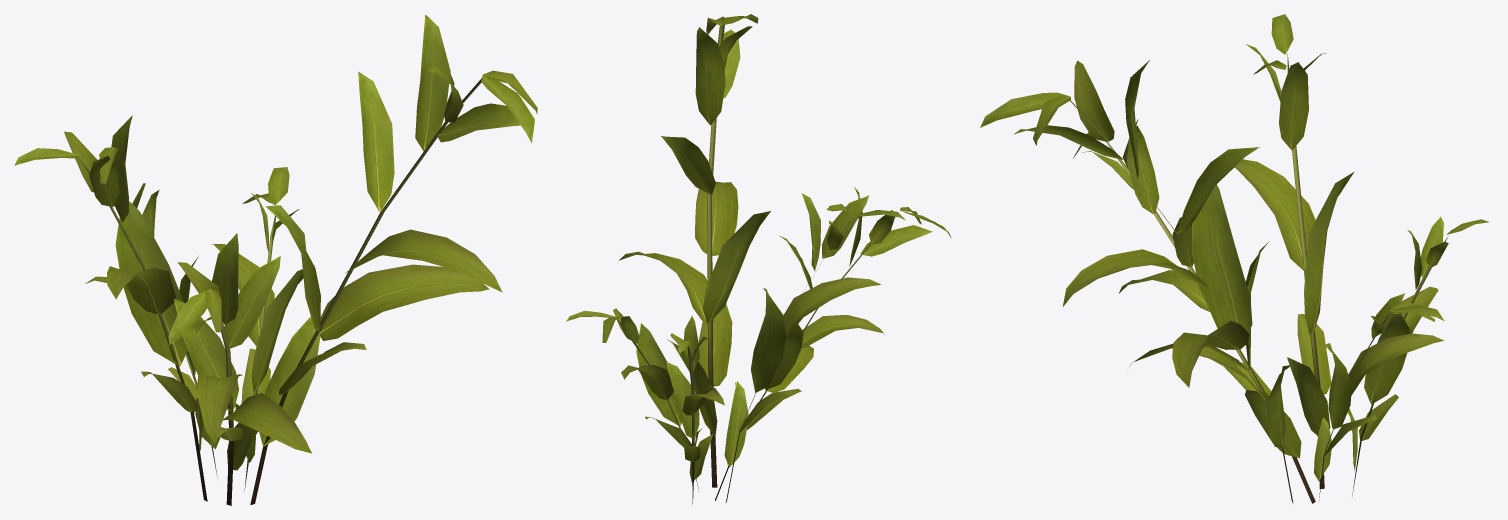
File: leafplant4_lod1.fbx
3 views of the same model, side by side, from view 1: azimuth 30°, elevation 25°; view 2: azimuth 150°, elevation 25°; view 3: azimuth 270°, elevation 25° (orthographic). The views are drawn at different scales.
Visible parts, largest first — view 1: Mesh Object; view 2: Mesh Object; view 3: Mesh Object.
Boxes of the visible parts, x1,y1,x2,y2 form: Mesh Object: (14, 14, 537, 505); Mesh Object: (566, 14, 951, 504); Mesh Object: (980, 14, 1489, 503).
Bounding box in the file's own units: 1.12 × 1.33 × 1.26.
